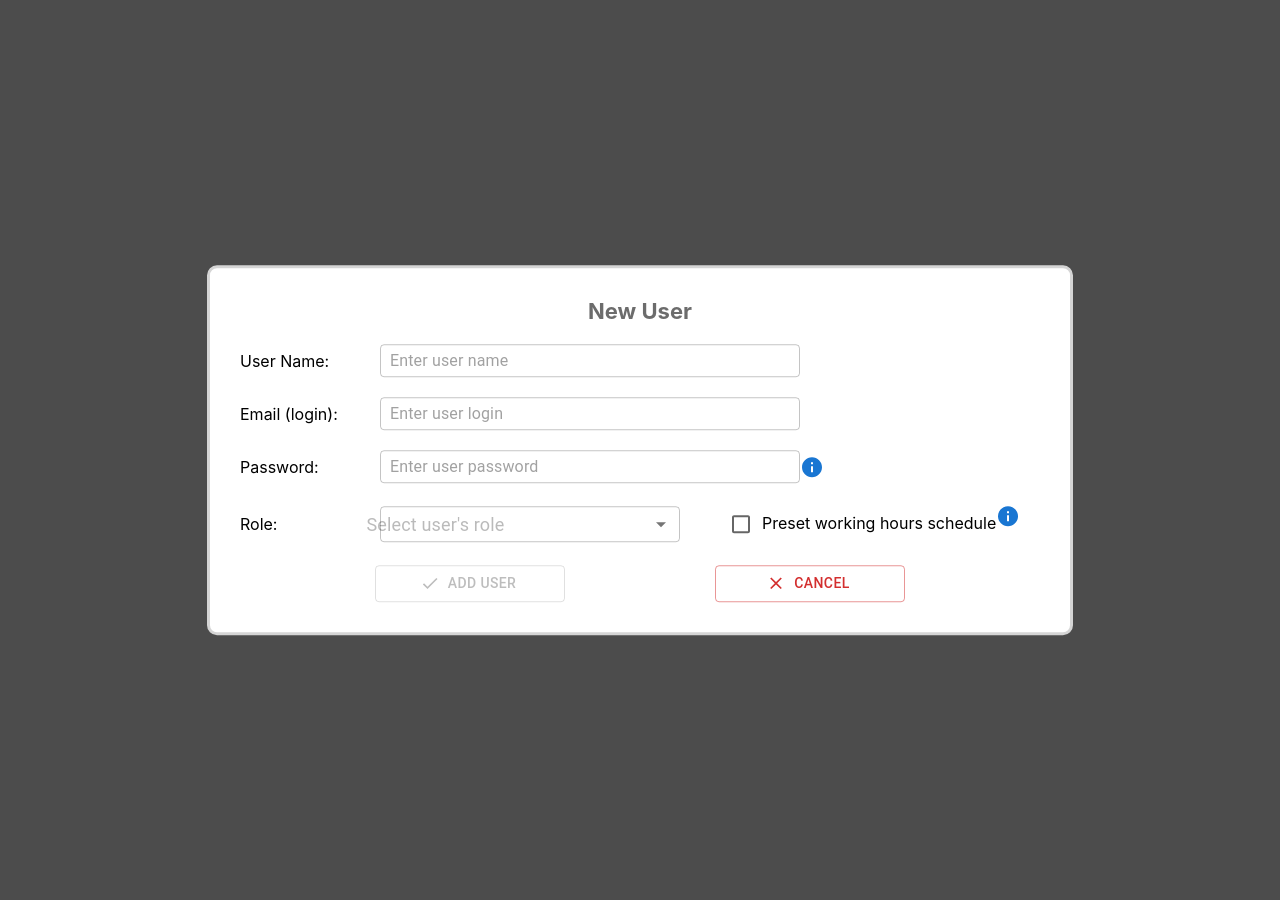
Test: AddNewUserModalContainer test › validation works
In the field with placeholder "Enter user name": [590, 361] box 380,344 -> 800,377, type "user"
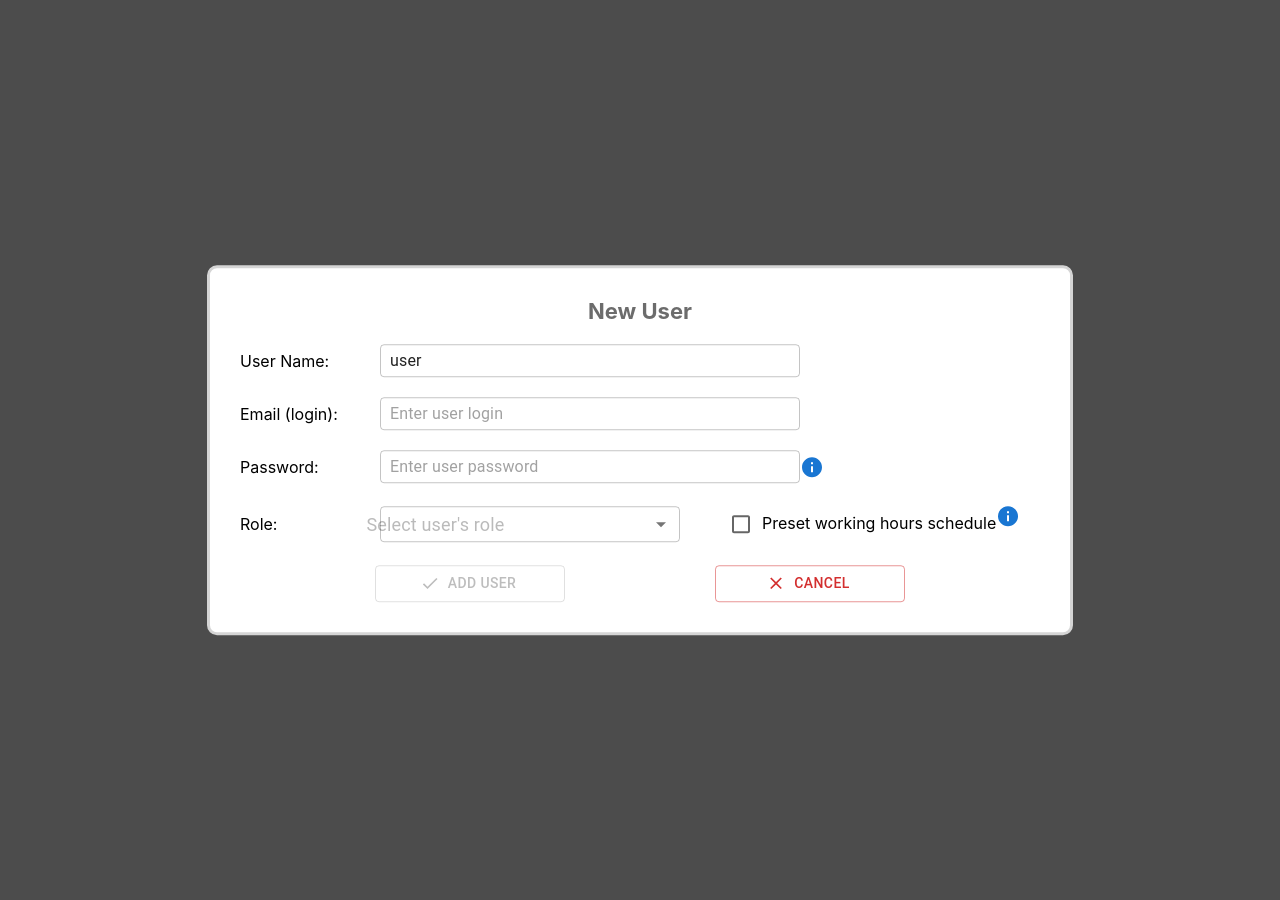
In the field with placeholder "Enter user login": [590, 414] box 380,397 -> 800,430, type "login"
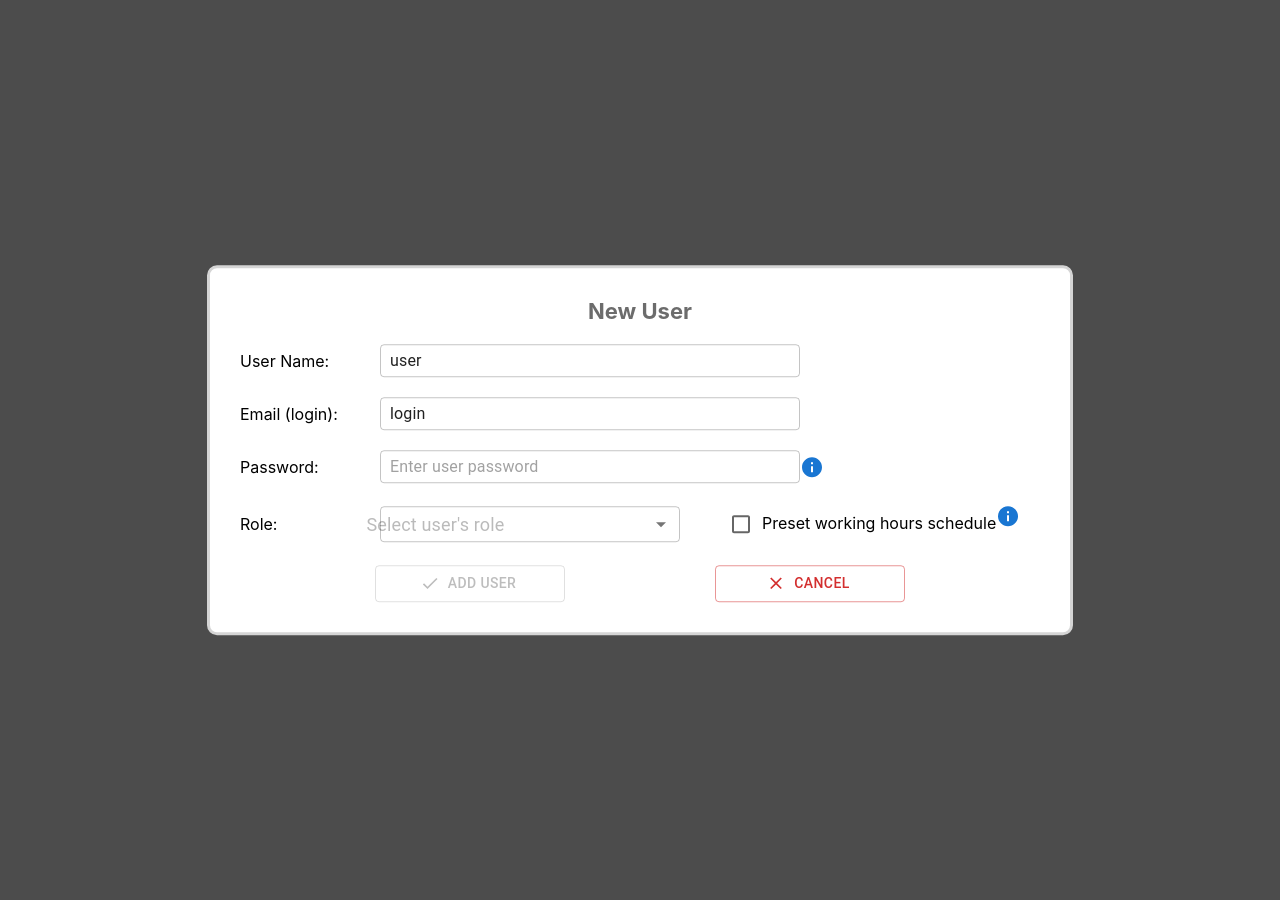
In the password field with placeholder "Enter user password": [590, 467] box 380,450 -> 800,483, type "pass"
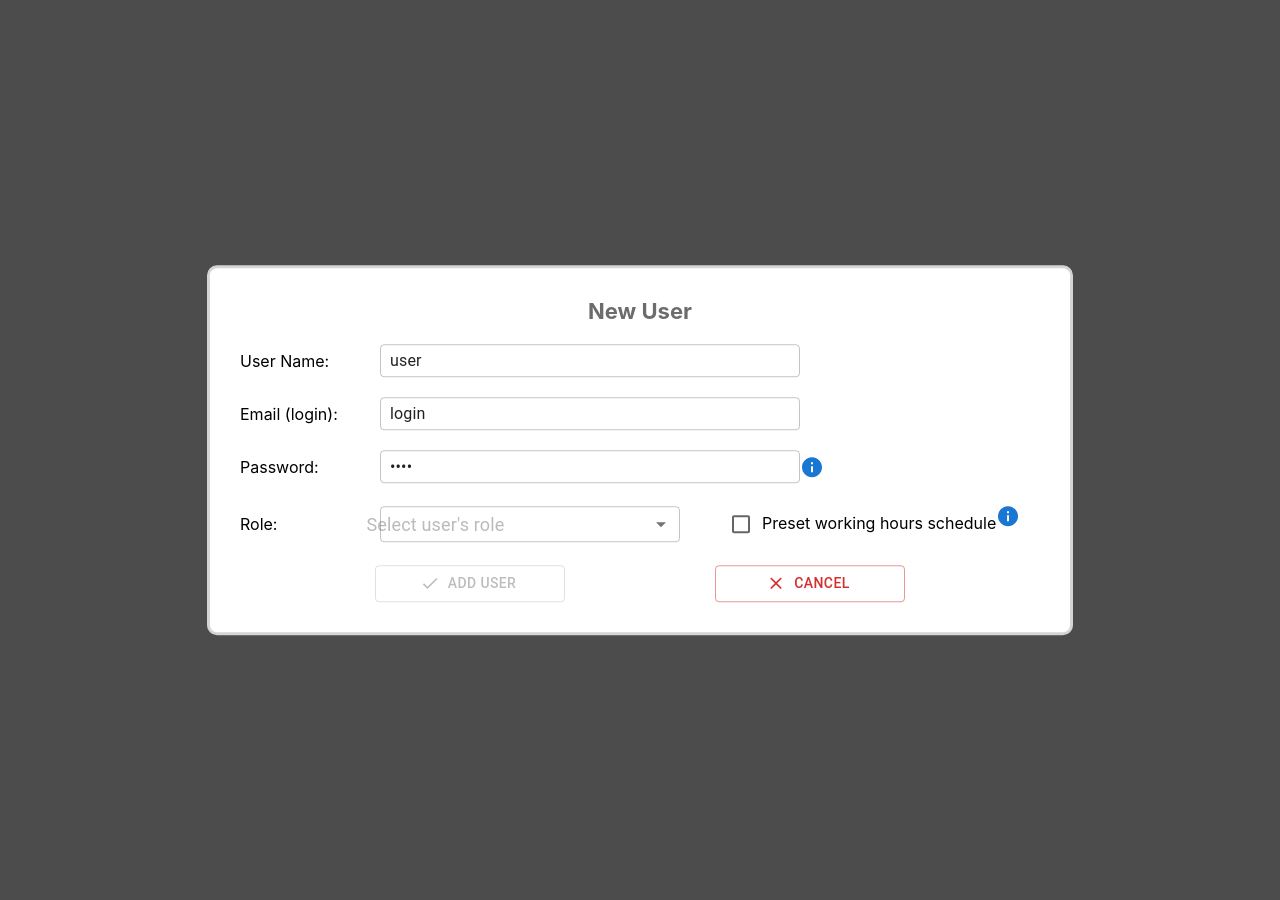
Select "Admin" in the dropdown: [530, 524] box 362,506 -> 698,542
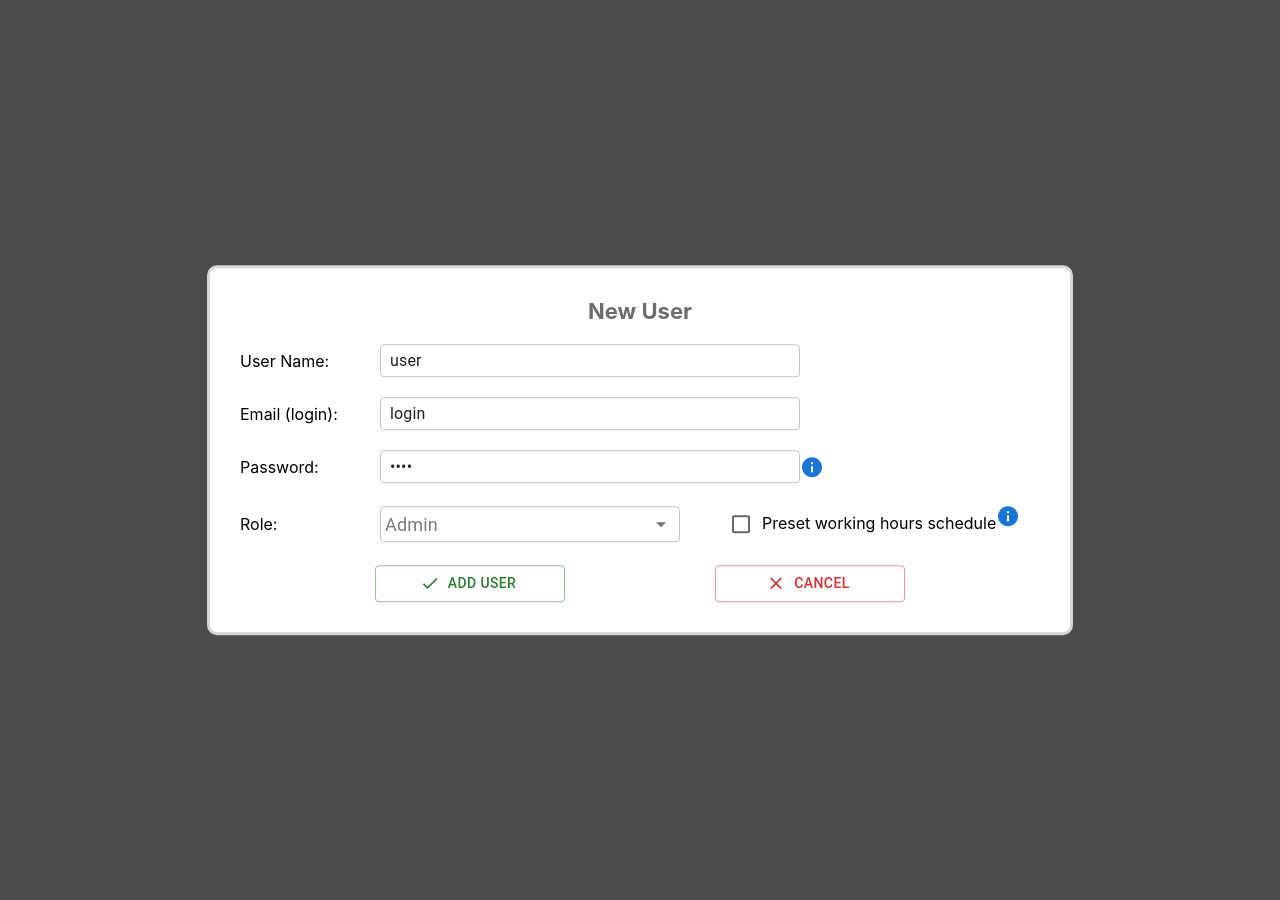
Expected: the field with placeholder "Enter user name" next to "User Name:" has attribute value="user", 380,344 -> 800,377
Expected: the field with placeholder "Enter user login" next to "Email (login):" has attribute value="login", 380,397 -> 800,430
Expected: the button "Add User" does not have class "Mui-disabled"
Click the button "Add User": [470, 584] box 375,565 -> 565,602
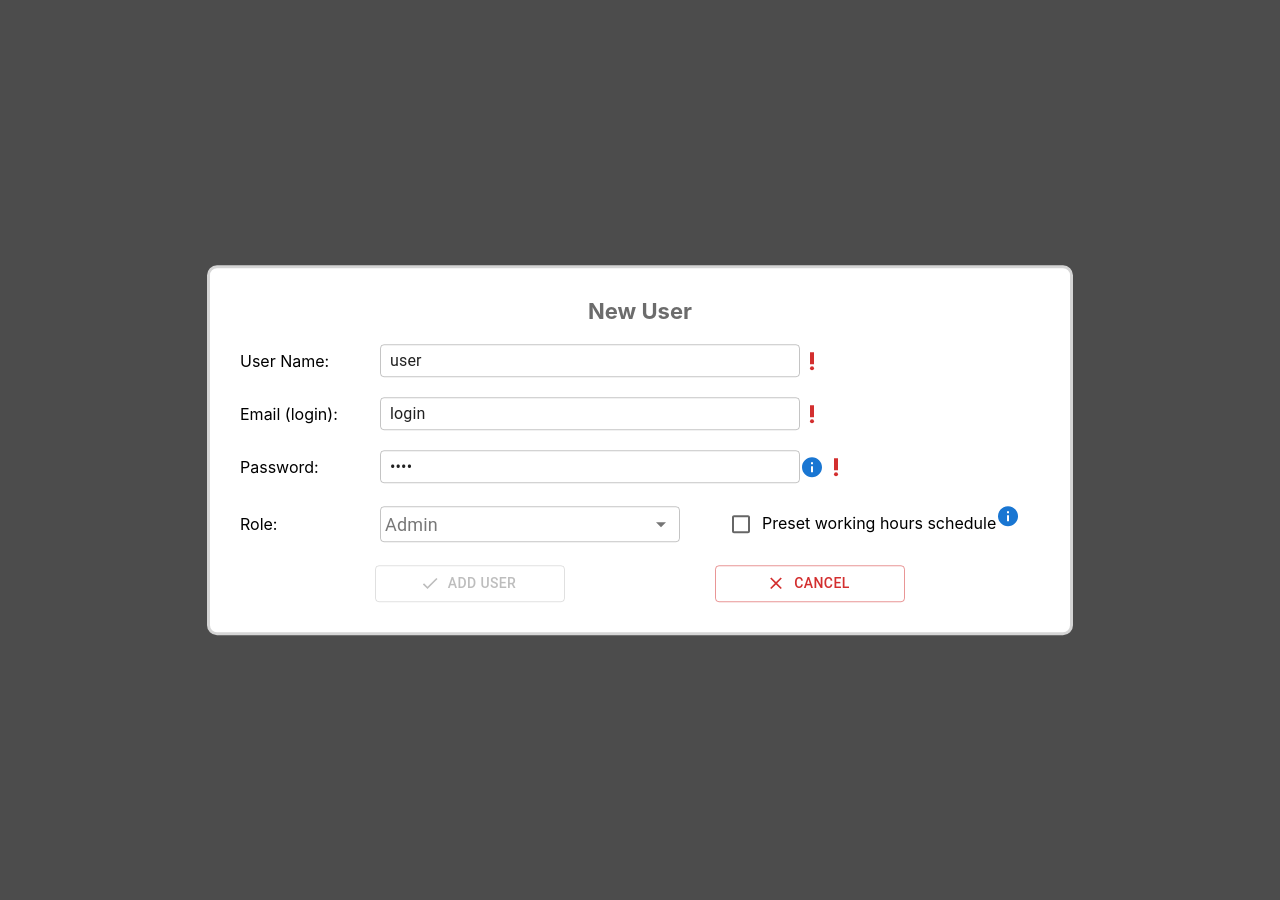
Expected: the number of icons with test id "PriorityHighIcon" is 3, 800,349 -> 824,373; 800,402 -> 824,426; 824,455 -> 848,479
